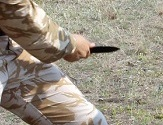knife: (72, 39, 122, 61)
